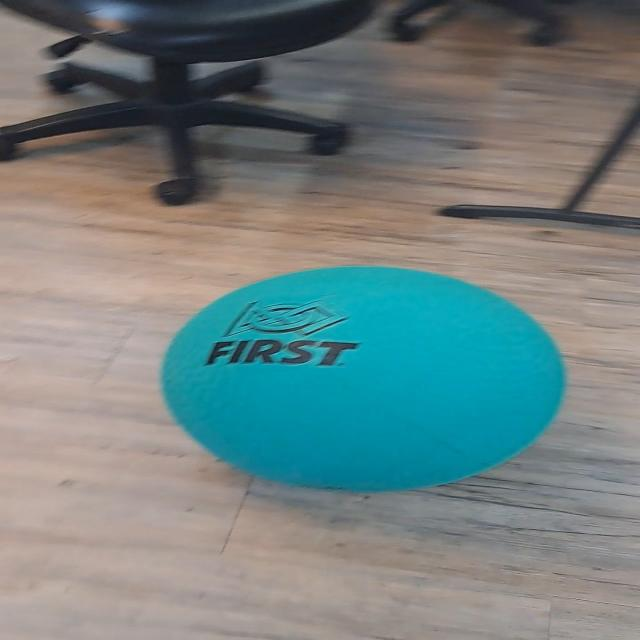ALGAE: (156, 263, 568, 493)
